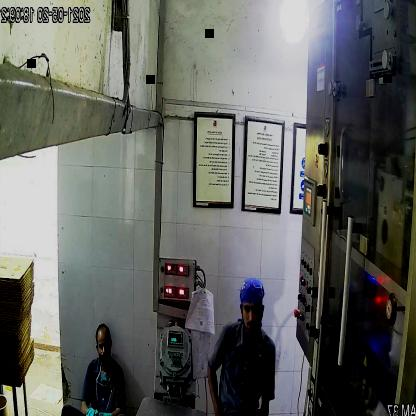no_goggles: (238, 298, 266, 320), (94, 338, 114, 355)
